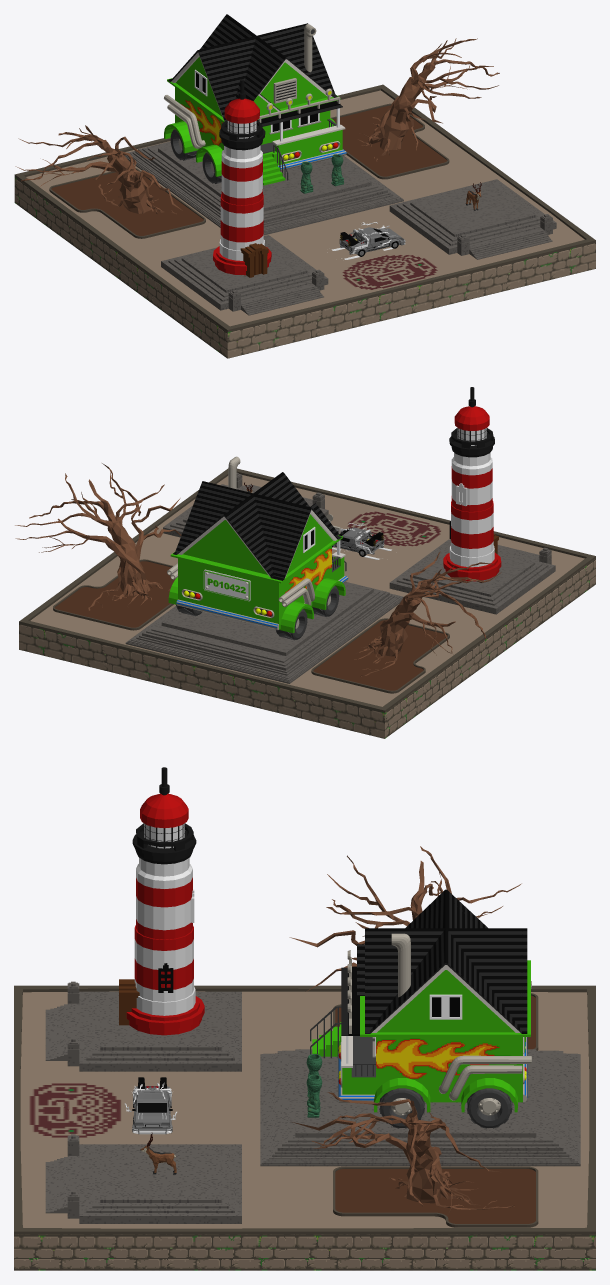
The picture shows the model from 3 angles, top to bottom: view 1: azimuth 30°, elevation 25°; view 2: azimuth 150°, elevation 25°; view 3: azimuth 270°, elevation 25°; orthographic projection. The views are drawn at different scales.
Parts seen in each view (by area): view 1: Cube.011, Cube.1474, OBJRANDOM_LIGHTHOUSE, VEHICLES_DELOREAN; view 2: Cube.011, Cube.1474, OBJRANDOM_LIGHTHOUSE, VEHICLES_DELOREAN; view 3: Cube.011, Cube.1474, OBJRANDOM_LIGHTHOUSE, VEHICLES_DELOREAN.
Boxes of the visible parts, bbox=[...] form: Cube.011: bbox=[14, 38, 595, 358]; Cube.1474: bbox=[164, 14, 346, 185]; OBJRANDOM_LIGHTHOUSE: bbox=[213, 79, 271, 277]; VEHICLES_DELOREAN: bbox=[327, 222, 405, 259]; Cube.011: bbox=[15, 463, 595, 738]; Cube.1474: bbox=[167, 456, 348, 640]; OBJRANDOM_LIGHTHOUSE: bbox=[443, 387, 501, 581]; VEHICLES_DELOREAN: bbox=[332, 523, 391, 559]; Cube.011: bbox=[14, 846, 595, 1270]; Cube.1474: bbox=[310, 889, 531, 1128]; OBJRANDOM_LIGHTHOUSE: bbox=[119, 767, 204, 1035]; VEHICLES_DELOREAN: bbox=[124, 1077, 177, 1134].
Bounding box in the file's own units: 5099 × 2375 × 4000.
44 materials, 6 textured.
